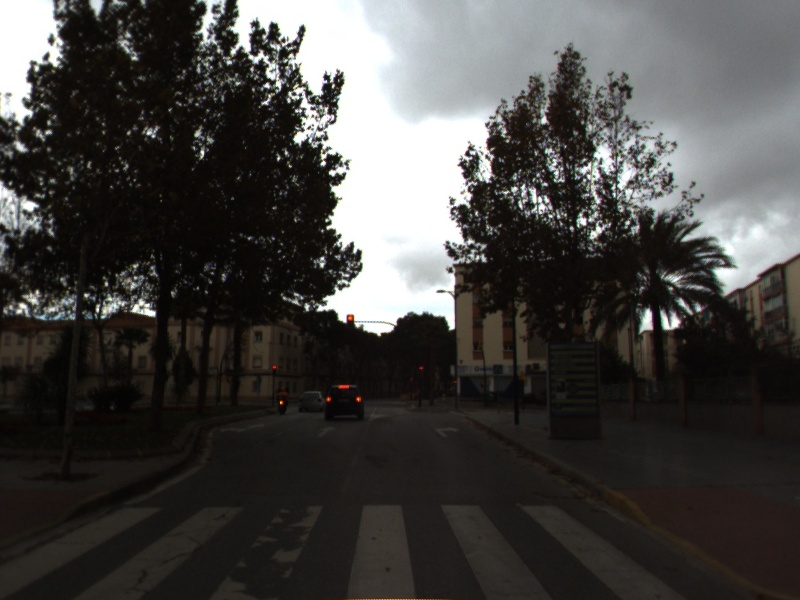RIGHT: (433, 424, 462, 439)
STRAIGHT: (315, 423, 338, 439)
STRAIGHT_LEFT: (218, 421, 268, 435)
